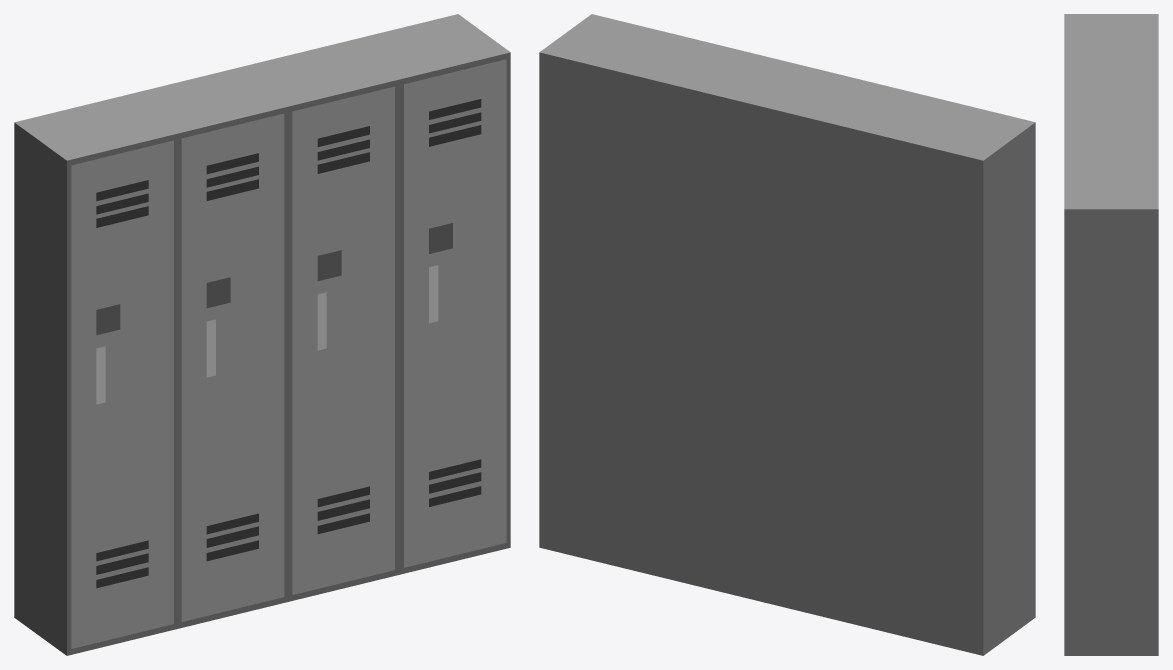
The model's file is SO_Lockers_01.fbx.
3 renders of one model, left to right at view 1: azimuth 30°, elevation 25°; view 2: azimuth 150°, elevation 25°; view 3: azimuth 270°, elevation 25°, orthographic. The views are drawn at different scales.
Parts seen in each view (by area): view 1: SO_Lockers_01; view 2: SO_Lockers_01; view 3: SO_Lockers_01.
Part boxes in pixels (<box>): SO_Lockers_01: <box>14,14,510,655</box>; SO_Lockers_01: <box>539,14,1035,655</box>; SO_Lockers_01: <box>1064,14,1158,655</box>.
Bounding box in the file's own units: 3.22 × 3.43 × 0.6585.
